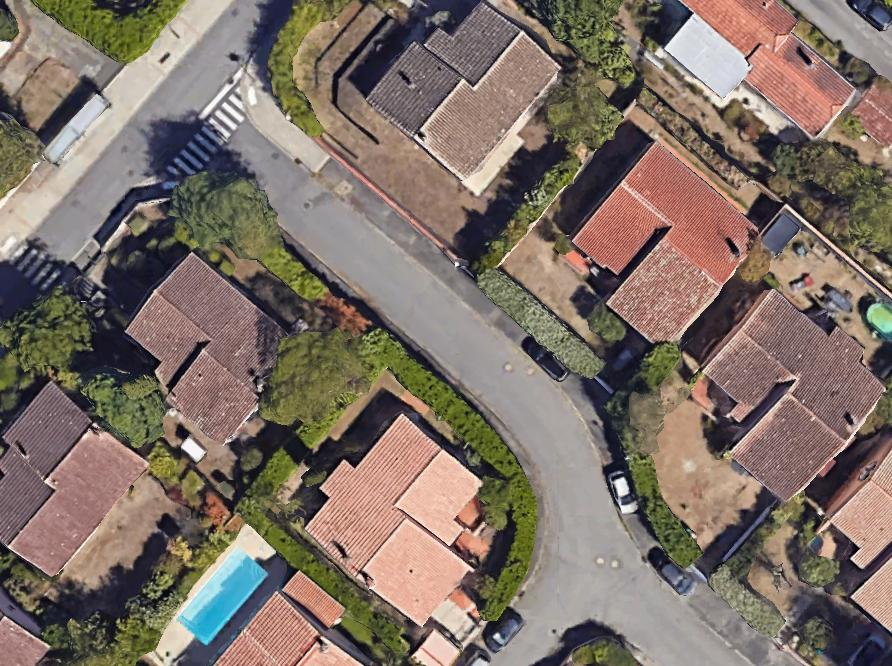maison: (289, 402, 520, 632), (667, 275, 892, 510), (552, 138, 768, 355), (104, 247, 309, 448), (361, 0, 571, 189), (648, 0, 867, 165), (0, 379, 150, 584), (822, 429, 891, 632), (214, 572, 361, 665), (0, 591, 49, 665)
